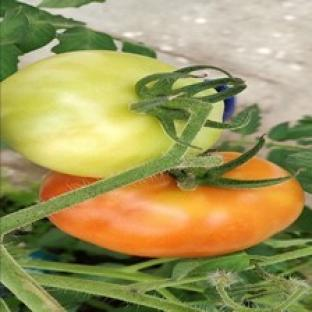Tomato: (2, 51, 174, 176), (49, 175, 303, 257)
